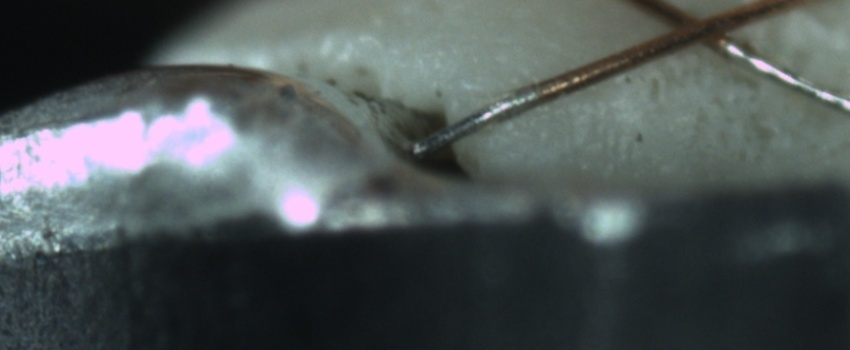CL: (656, 1, 755, 59)
DL: (472, 81, 641, 123)
TS: (412, 88, 541, 157)
